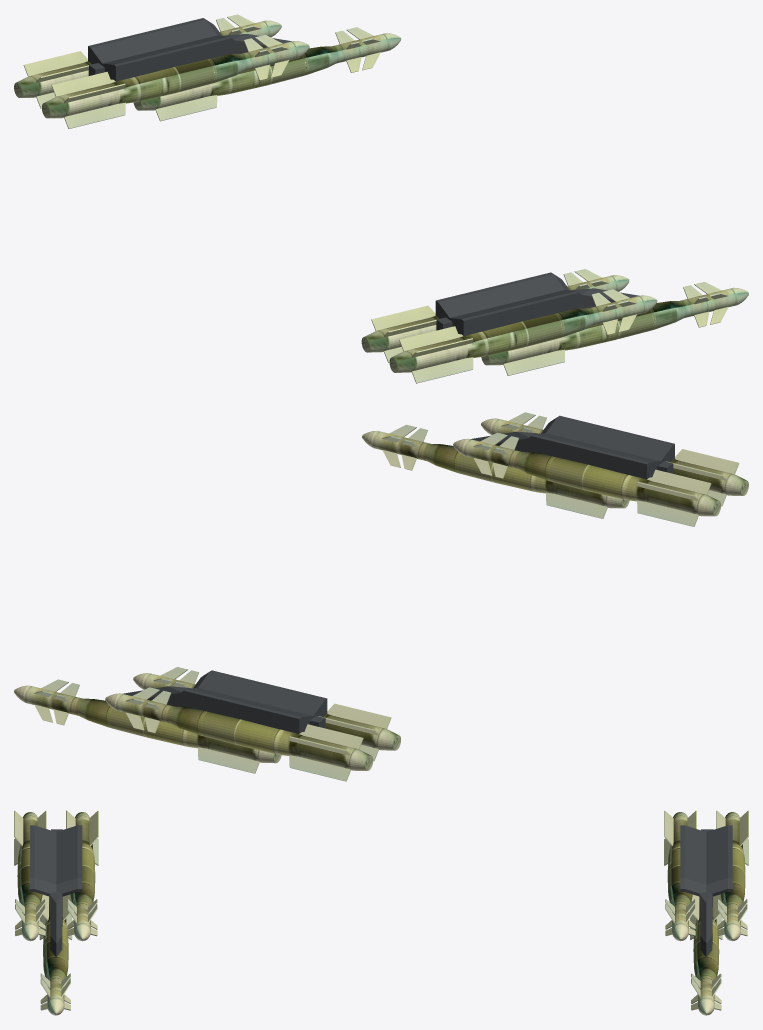
File: rafaleaasm14.glb
3 renders of one model, top to bottom at view 1: azimuth 30°, elevation 25°; view 2: azimuth 150°, elevation 25°; view 3: azimuth 270°, elevation 25°, orthographic. The views are drawn at different scales.
Parts seen in each view (by area): view 1: 円柱.004, 円柱.002, 立方体.002, 立方体.003, 円柱.005, 円柱.006, 円柱.003, 円柱.008; view 2: 円柱.008, 円柱.003, 立方体.003, 立方体.002, 円柱.006, 円柱.005, 円柱.002, 円柱.004; view 3: 立方体.002, 立方体.003, 円柱.008, 円柱.002, 円柱.003, 円柱.004, 円柱.005, 円柱.006.
Boxes of the visible parts, left/top/right/bottom form: 円柱.004: left=389, top=289, right=657, bottom=383; 円柱.002: left=42, top=35, right=309, bottom=128; 立方体.002: left=435, top=272, right=639, bottom=335; 立方体.003: left=88, top=18, right=291, bottom=81; 円柱.005: left=481, top=281, right=748, bottom=375; 円柱.006: left=133, top=27, right=401, bottom=121; 円柱.003: left=361, top=269, right=629, bottom=362; 円柱.008: left=14, top=14, right=281, bottom=108; 円柱.008: left=105, top=687, right=373, bottom=781; 円柱.003: left=453, top=432, right=720, bottom=526; 立方体.003: left=123, top=670, right=327, bottom=733; 立方体.002: left=470, top=415, right=674, bottom=479; 円柱.006: left=14, top=679, right=281, bottom=773; 円柱.005: left=362, top=424, right=629, bottom=518; 円柱.002: left=133, top=667, right=400, bottom=761; 円柱.004: left=481, top=412, right=748, bottom=506; 立方体.002: left=30, top=825, right=82, bottom=957; 立方体.003: left=680, top=825, right=732, bottom=957; 円柱.008: left=716, top=810, right=748, bottom=941; 円柱.002: left=664, top=810, right=696, bottom=941; 円柱.003: left=66, top=810, right=98, bottom=941; 円柱.004: left=14, top=810, right=46, bottom=941; 円柱.005: left=39, top=894, right=72, bottom=1015; 円柱.006: left=690, top=894, right=722, bottom=1015.
Size of the model in its own units: 3.25 by 0.5983 by 5.99.
Materials: 4 (2 with a texture image).
